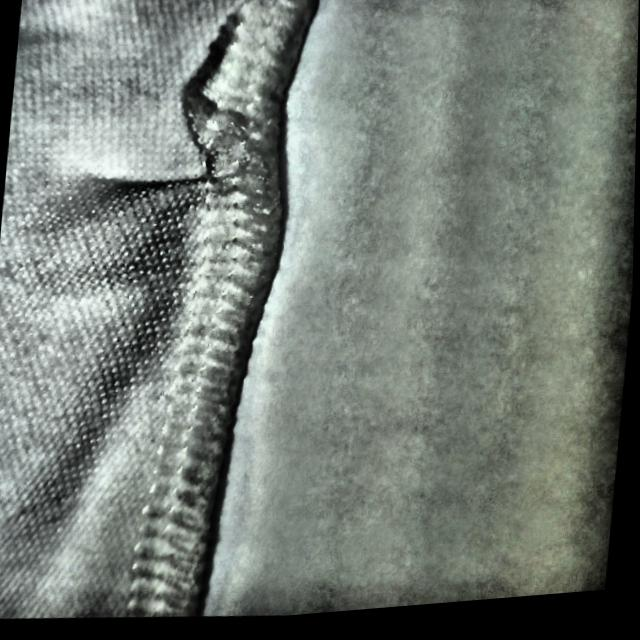seam: (100, 9, 300, 236)
